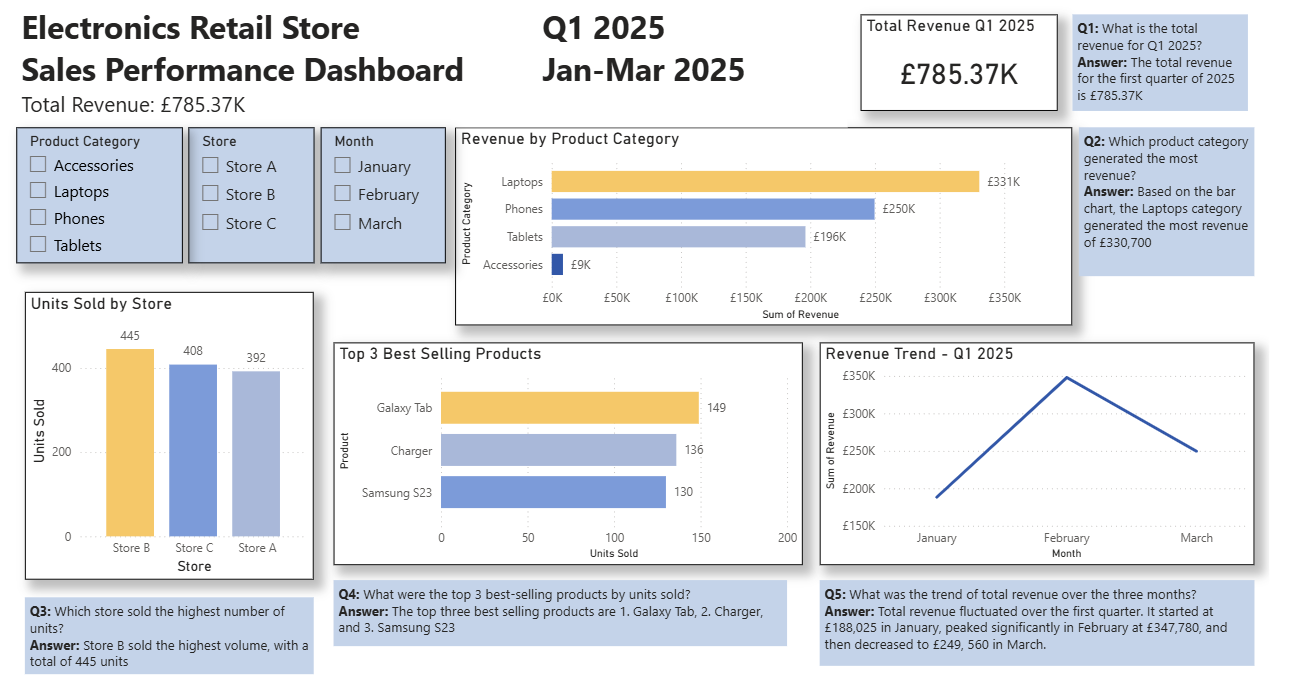

What the dashboard file says about the page in this screenshot:
{"tool":"powerbi","page":{"name":"Practical Task Dashboard","canvas":[1280,720],"ordinal":0},"visuals":[{"type":"card","title":"Total Revenue Q1 2025","fields":{"Values":["Sum(RR-PRAC4 - retail_sales_q1_2025_large.Revenue)"]},"box":[866,32,200,98],"z":0},{"type":"textbox","box":[1081,32,178,98],"z":1000},{"type":"clusteredBarChart","title":"Revenue by Product Category","fields":{"Category":["RR-PRAC4 - retail_sales_q1_2025_large.Product Category"],"Y":["Sum(RR-PRAC4 - retail_sales_q1_2025_large.Revenue)"]},"box":[455,146,626,201],"z":2000},{"type":"textbox","box":[1088,146,178,151],"z":3000},{"type":"clusteredColumnChart","title":"Units Sold by Store","fields":{"Category":["RR-PRAC4 - retail_sales_q1_2025_large.Store"],"Y":["Sum(RR-PRAC4 - retail_sales_q1_2025_large.Units Sold)"]},"box":[19,313,293,292],"z":4000},{"type":"textbox","box":[19,623,293,78],"z":5000},{"type":"clusteredBarChart","title":"Top 3 Best Selling Products","fields":{"Category":["RR-PRAC4 - retail_sales_q1_2025_large.Product"],"Y":["Sum(RR-PRAC4 - retail_sales_q1_2025_large.Units Sold)"]},"box":[332,364,476,226],"z":6000},{"type":"textbox","box":[332,605,460,67],"z":7000},{"type":"lineChart","title":"Revenue Trend - Q1 2025","fields":{"Y":["Sum(RR-PRAC4 - retail_sales_q1_2025_large.Revenue)"],"Category":["RR-PRAC4 - retail_sales_q1_2025_large.Date.Variation.Date Hierarchy.Month"]},"box":[825,364,441,226],"z":8000},{"type":"textbox","box":[825,605,441,87],"z":9000},{"type":"textbox","box":[10,16,843,130],"z":10000},{"type":"slicer","fields":{"Values":["RR-PRAC4 - retail_sales_q1_2025_large.Store"]},"box":[184,146,128,138],"z":11000},{"type":"slicer","fields":{"Values":["RR-PRAC4 - retail_sales_q1_2025_large.Date.Variation.Date Hierarchy.Month"]},"box":[319,146,127,138],"z":12000},{"type":"slicer","fields":{"Values":["RR-PRAC4 - retail_sales_q1_2025_large.Product Category"]},"box":[10,146,169,138],"z":13000}]}

Visuals, with their boxes in screenshot pixels (x1, y1, x2, y2):
"Total Revenue Q1 2025" card: l=854, t=14, r=1049, b=110
textbox: l=1064, t=14, r=1238, b=110
"Revenue by Product Category" clusteredBarChart: l=452, t=126, r=1064, b=323
textbox: l=1071, t=126, r=1245, b=274
"Units Sold by Store" clusteredColumnChart: l=25, t=289, r=312, b=575
textbox: l=25, t=592, r=312, b=669
"Top 3 Best Selling Products" clusteredBarChart: l=331, t=339, r=797, b=560
textbox: l=331, t=575, r=781, b=640
"Revenue Trend - Q1 2025" lineChart: l=814, t=339, r=1245, b=560
textbox: l=814, t=575, r=1245, b=660
textbox: l=16, t=0, r=841, b=126
slicer - RR-PRAC4 - retail_sales_q1_2025_large.Store: l=187, t=126, r=312, b=261
slicer - RR-PRAC4 - retail_sales_q1_2025_large.Date.Variation.Date Hierarchy.Month: l=319, t=126, r=443, b=261
slicer - RR-PRAC4 - retail_sales_q1_2025_large.Product Category: l=16, t=126, r=182, b=261
